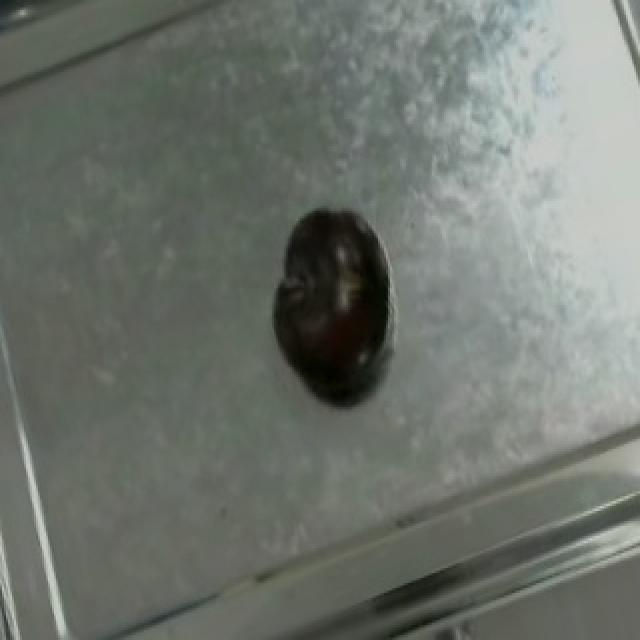Fruit: (262, 188, 398, 404)
